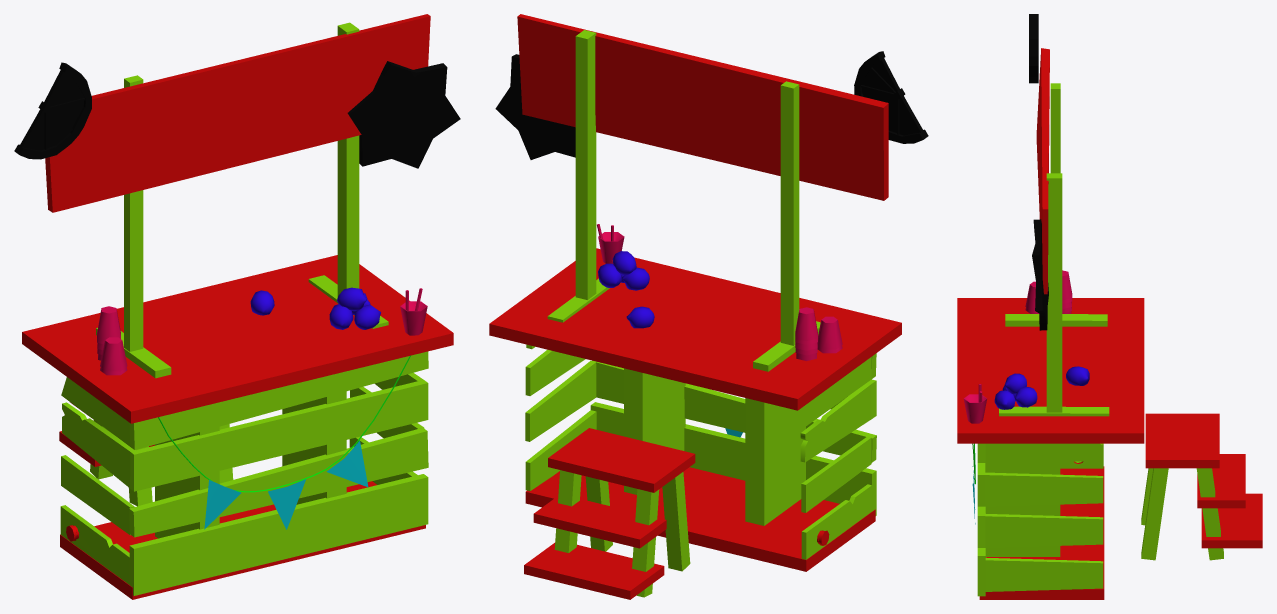
File: Lemonade.fbx
The picture shows the model from 3 angles, left to right: view 1: azimuth 30°, elevation 25°; view 2: azimuth 150°, elevation 25°; view 3: azimuth 270°, elevation 25°; orthographic projection. The views are drawn at different scales.
Visible parts, largest first — view 1: Montón_Vasos_2; view 2: Montón_Vasos_2; view 3: Montón_Vasos_2.
Boxes of the visible parts, x1,y1,x2,y2 form: Montón_Vasos_2: (14,14,460,599); Montón_Vasos_2: (489,14,928,599); Montón_Vasos_2: (957,14,1262,599).
Size of the model in its own units: 4.6 by 5.17 by 3.18.
